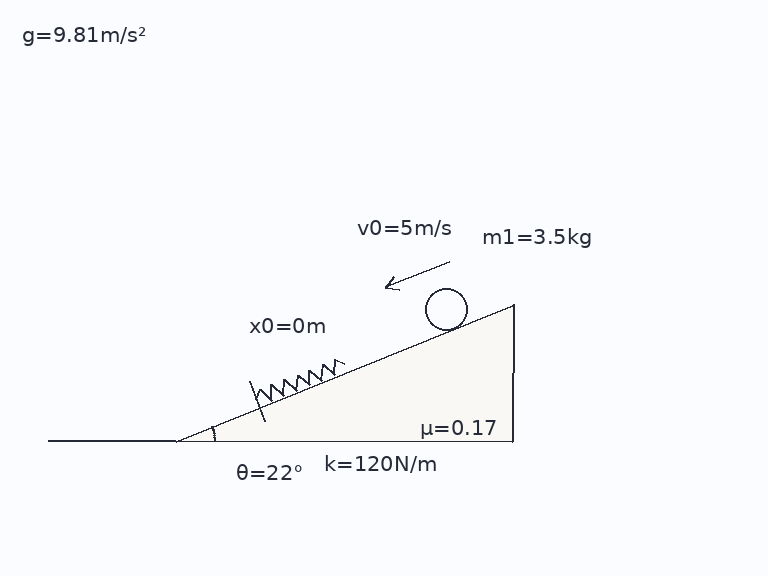ball: (423, 286, 469, 332)
ramp: (173, 303, 514, 443)
spring: (254, 357, 346, 402)
